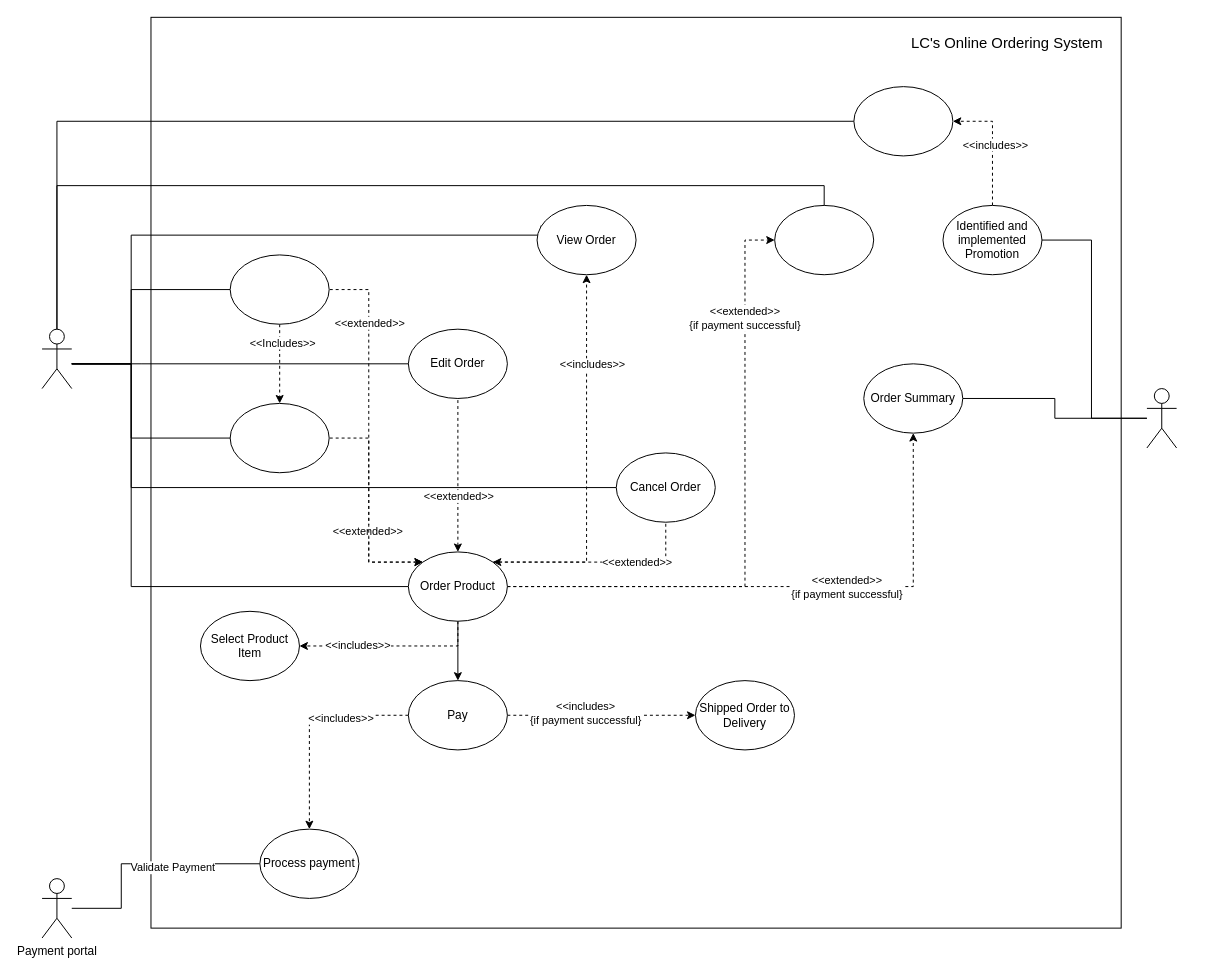
This 1230x976 diagram has some shape labels left out. Each missing label, with the centre of its shape:
"Customers" goes at (56,358).
"Distribute Coupons" goes at (903,121).
"Edit Shopping Cart" goes at (279,437).
"Marketing manager" goes at (1161,418).
"Order History" goes at (824,239).
"View Shopping Cart" goes at (279,289).
